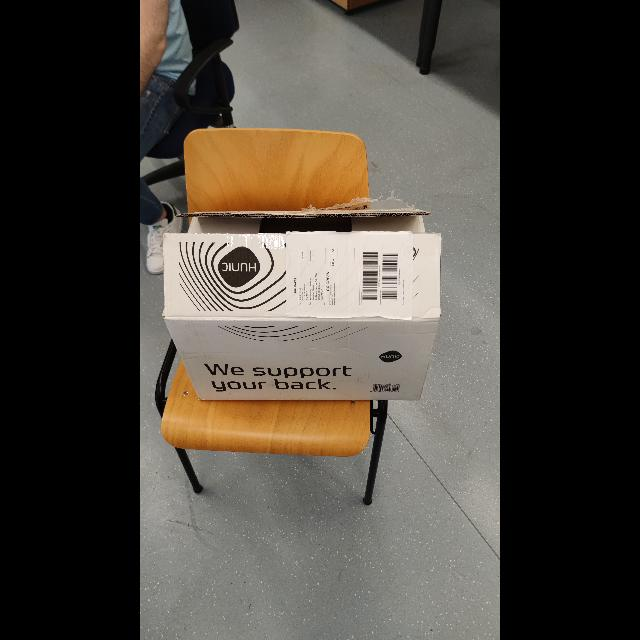cardboard_box: (162, 197, 458, 419)
